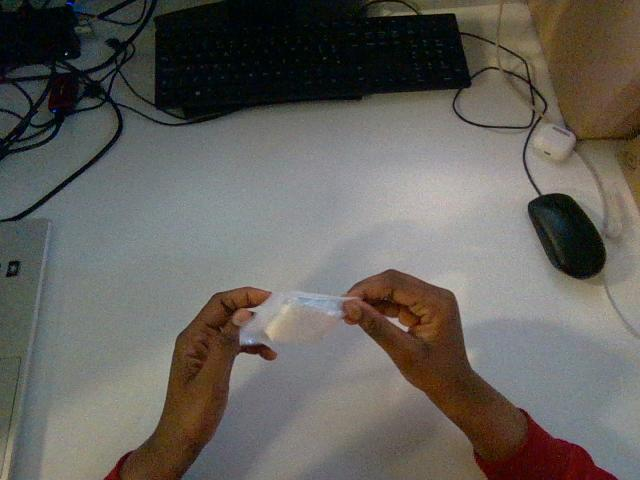gauze: (240, 292, 347, 344)
